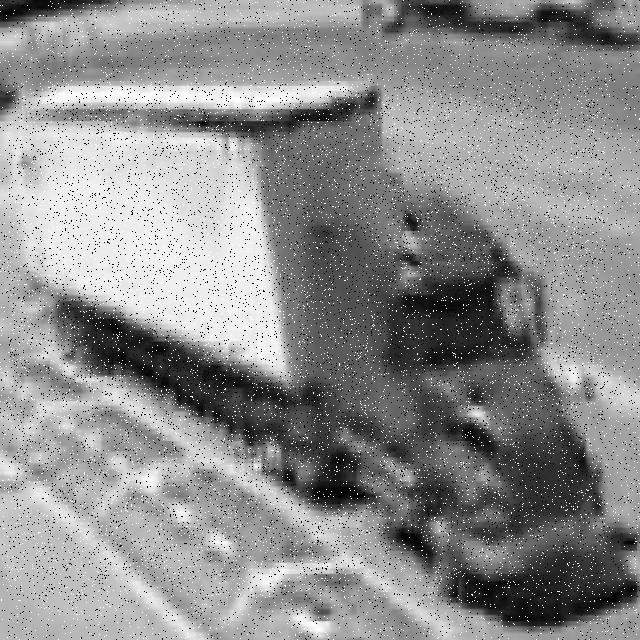Box Truck: (9, 86, 605, 598)
